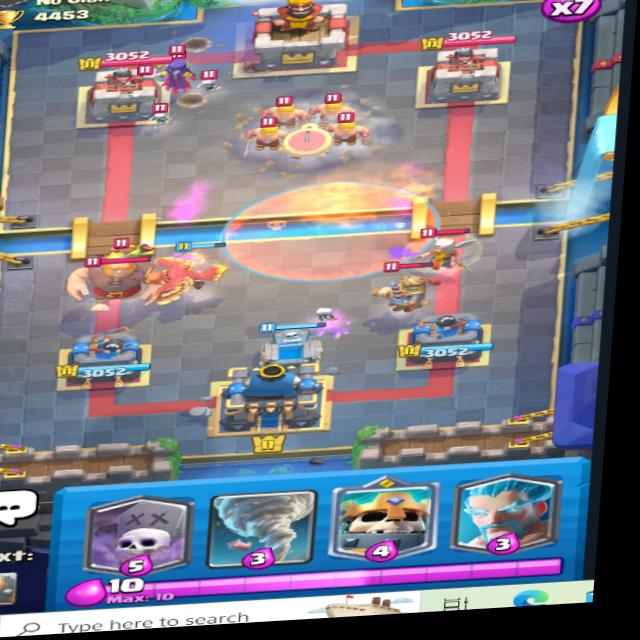barbarian: (304, 90, 362, 125), (318, 113, 372, 147), (241, 115, 293, 150), (260, 94, 307, 128)
battle-healer: (403, 225, 479, 274)
giant: (63, 243, 164, 308)
goblin-demolisher: (90, 233, 162, 270)
prince: (362, 260, 438, 318)
skeleton: (188, 69, 229, 98), (148, 100, 185, 127)
witch: (151, 53, 207, 97)
